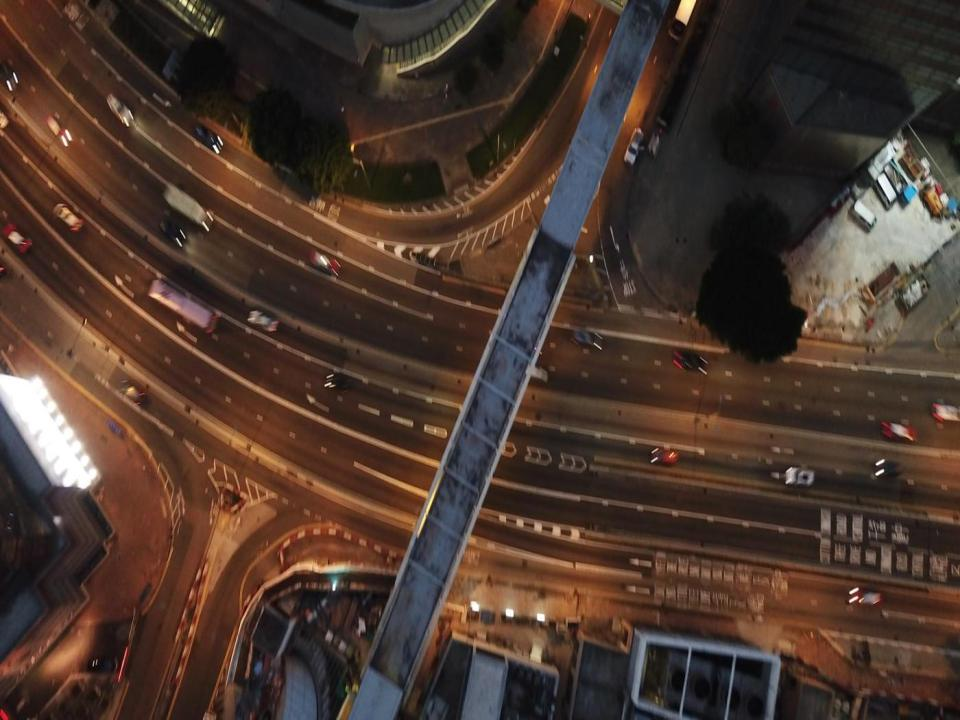bus: (149, 279, 219, 334), (165, 184, 213, 232)
car: (52, 203, 84, 233), (673, 349, 709, 375), (310, 249, 340, 277), (196, 126, 223, 154), (161, 219, 187, 248), (248, 308, 279, 332), (571, 328, 604, 350), (4, 225, 30, 252), (848, 587, 882, 606), (881, 422, 916, 440), (0, 60, 18, 92), (932, 402, 960, 421), (324, 372, 349, 392), (651, 447, 678, 465), (875, 459, 902, 477)
truck: (882, 159, 914, 202)
van: (107, 93, 134, 128), (623, 128, 645, 164), (874, 171, 896, 207), (850, 200, 876, 229), (122, 382, 147, 407), (786, 465, 815, 486)
